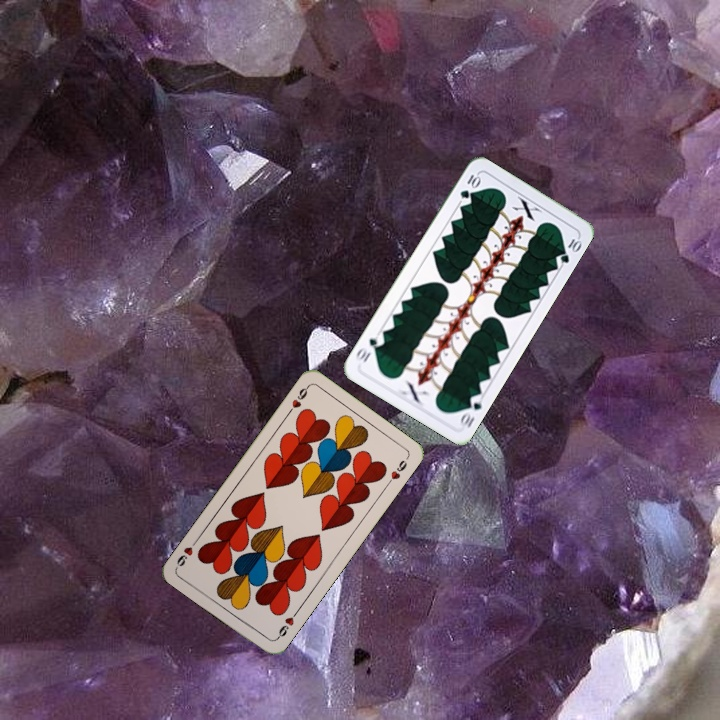G10: (456, 390, 486, 431), (456, 169, 483, 201)
H9: (283, 382, 312, 417), (272, 607, 301, 642)
